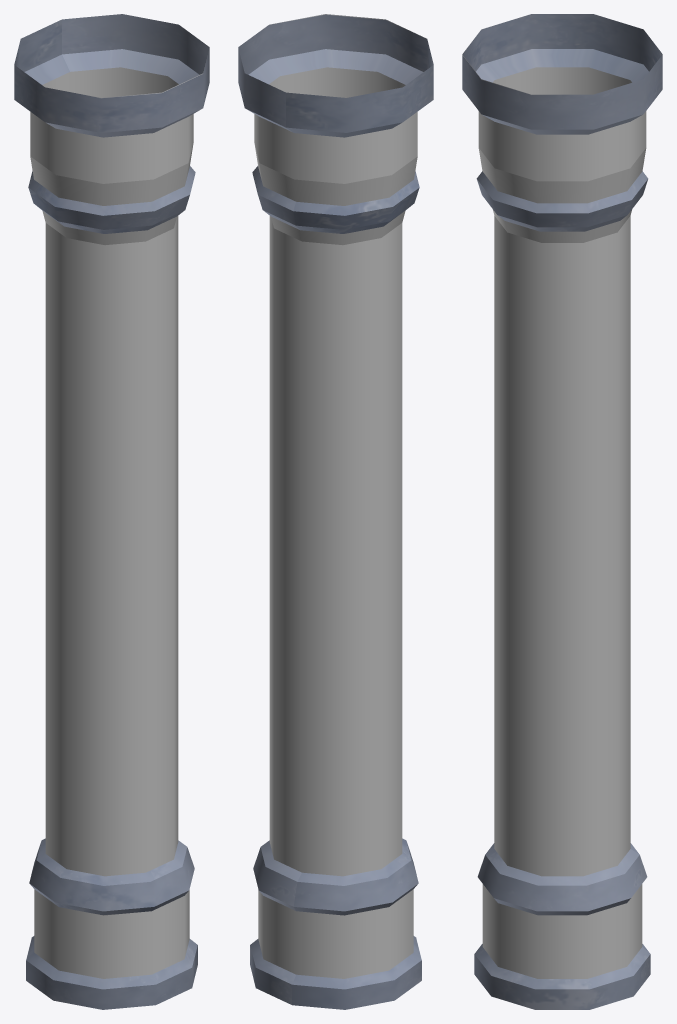
Rendered from Wall_Column_1.fbx.
The picture shows the model from 3 angles, left to right: view 1: azimuth 30°, elevation 25°; view 2: azimuth 150°, elevation 25°; view 3: azimuth 270°, elevation 25°; orthographic projection.
Visible parts, largest first — view 1: Wall_Column_1; view 2: Wall_Column_1; view 3: Wall_Column_1.
Boxes of the visible parts, box(x1,y1,x2,y2) form: Wall_Column_1: box(14, 14, 209, 1009); Wall_Column_1: box(238, 14, 433, 1009); Wall_Column_1: box(462, 14, 662, 1009).
Size of the model in its own units: 0.9016 by 4.8 by 0.948.
